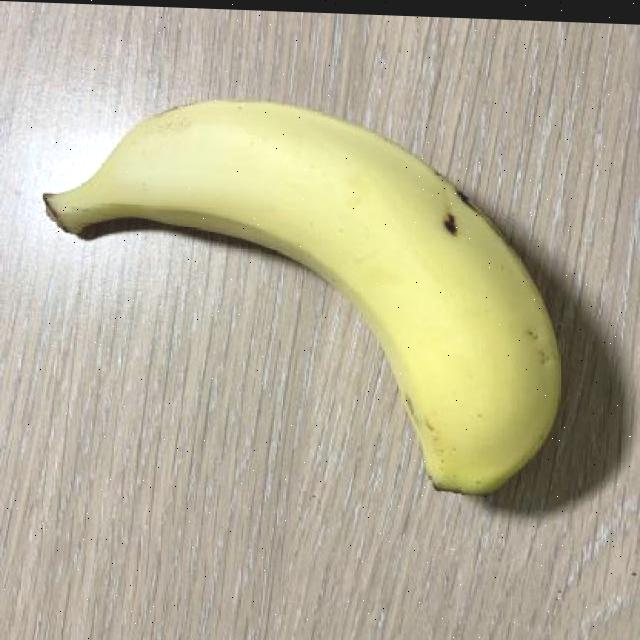banana: (33, 84, 579, 510)
